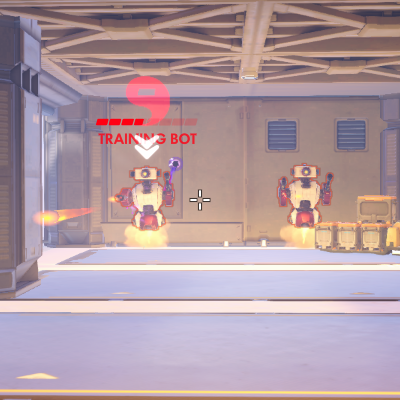hpbar: (96, 118, 198, 126)
